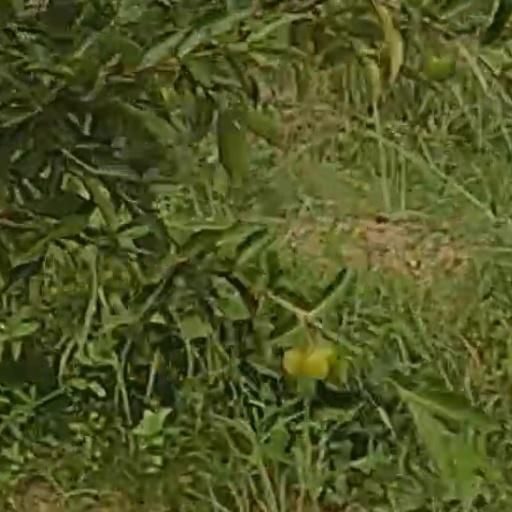acerola: (424, 47, 457, 81)
